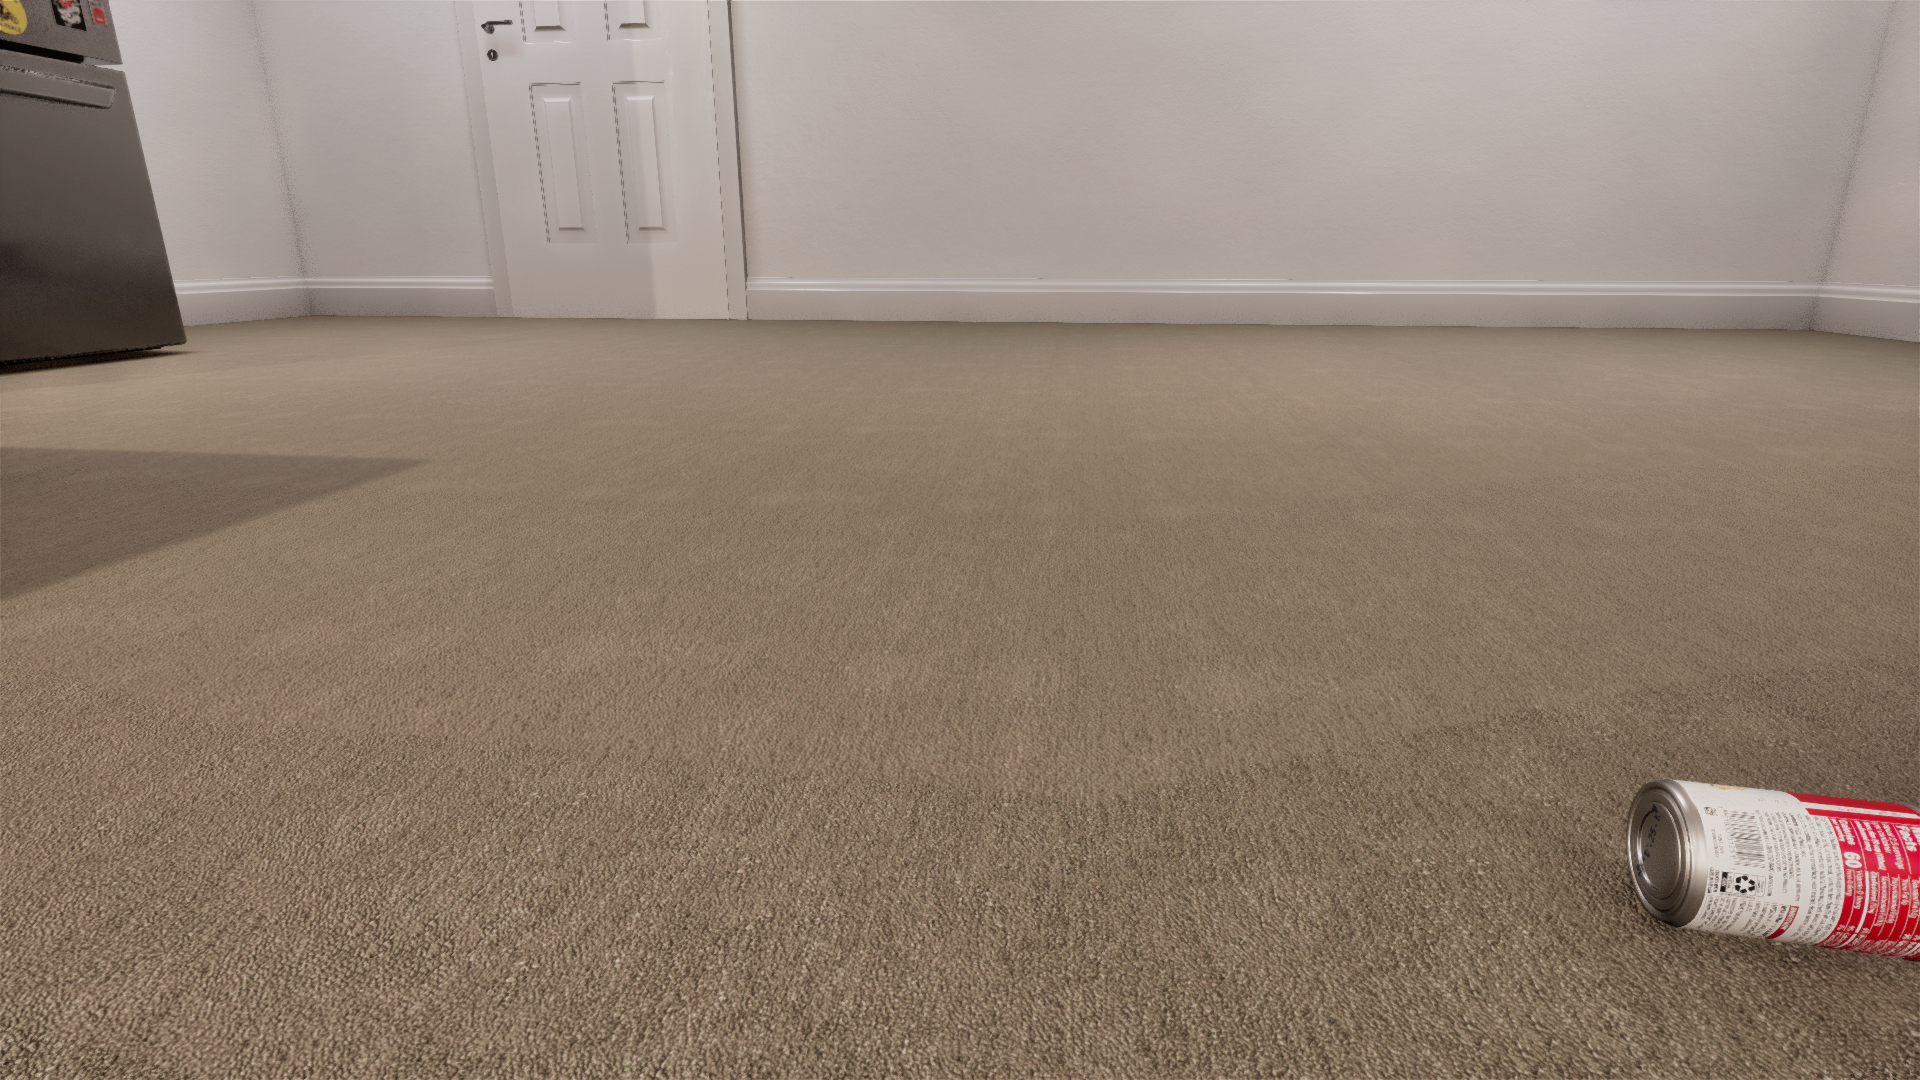cheerios: (1145, 187, 1375, 419)
soup: (1410, 335, 1516, 448)
